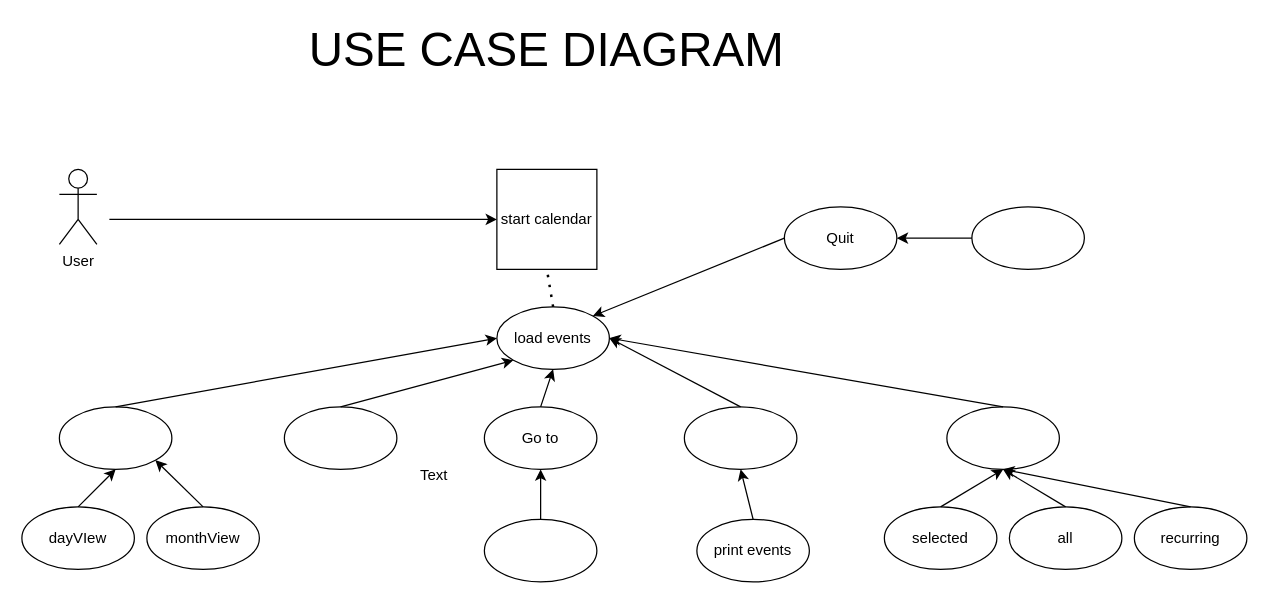
Some shapes in this 1269 by 604 pixel diagram are drawn without their labels. Here are the shapes that lost their labels. From the top down, the centre of each, then its label:
At point (1027, 237): "save events".
At point (115, 437): "View".
At point (340, 437): "Create".
At point (740, 437): "Event List".
At point (1002, 437): "delete".
At point (540, 550): "Certain date".
